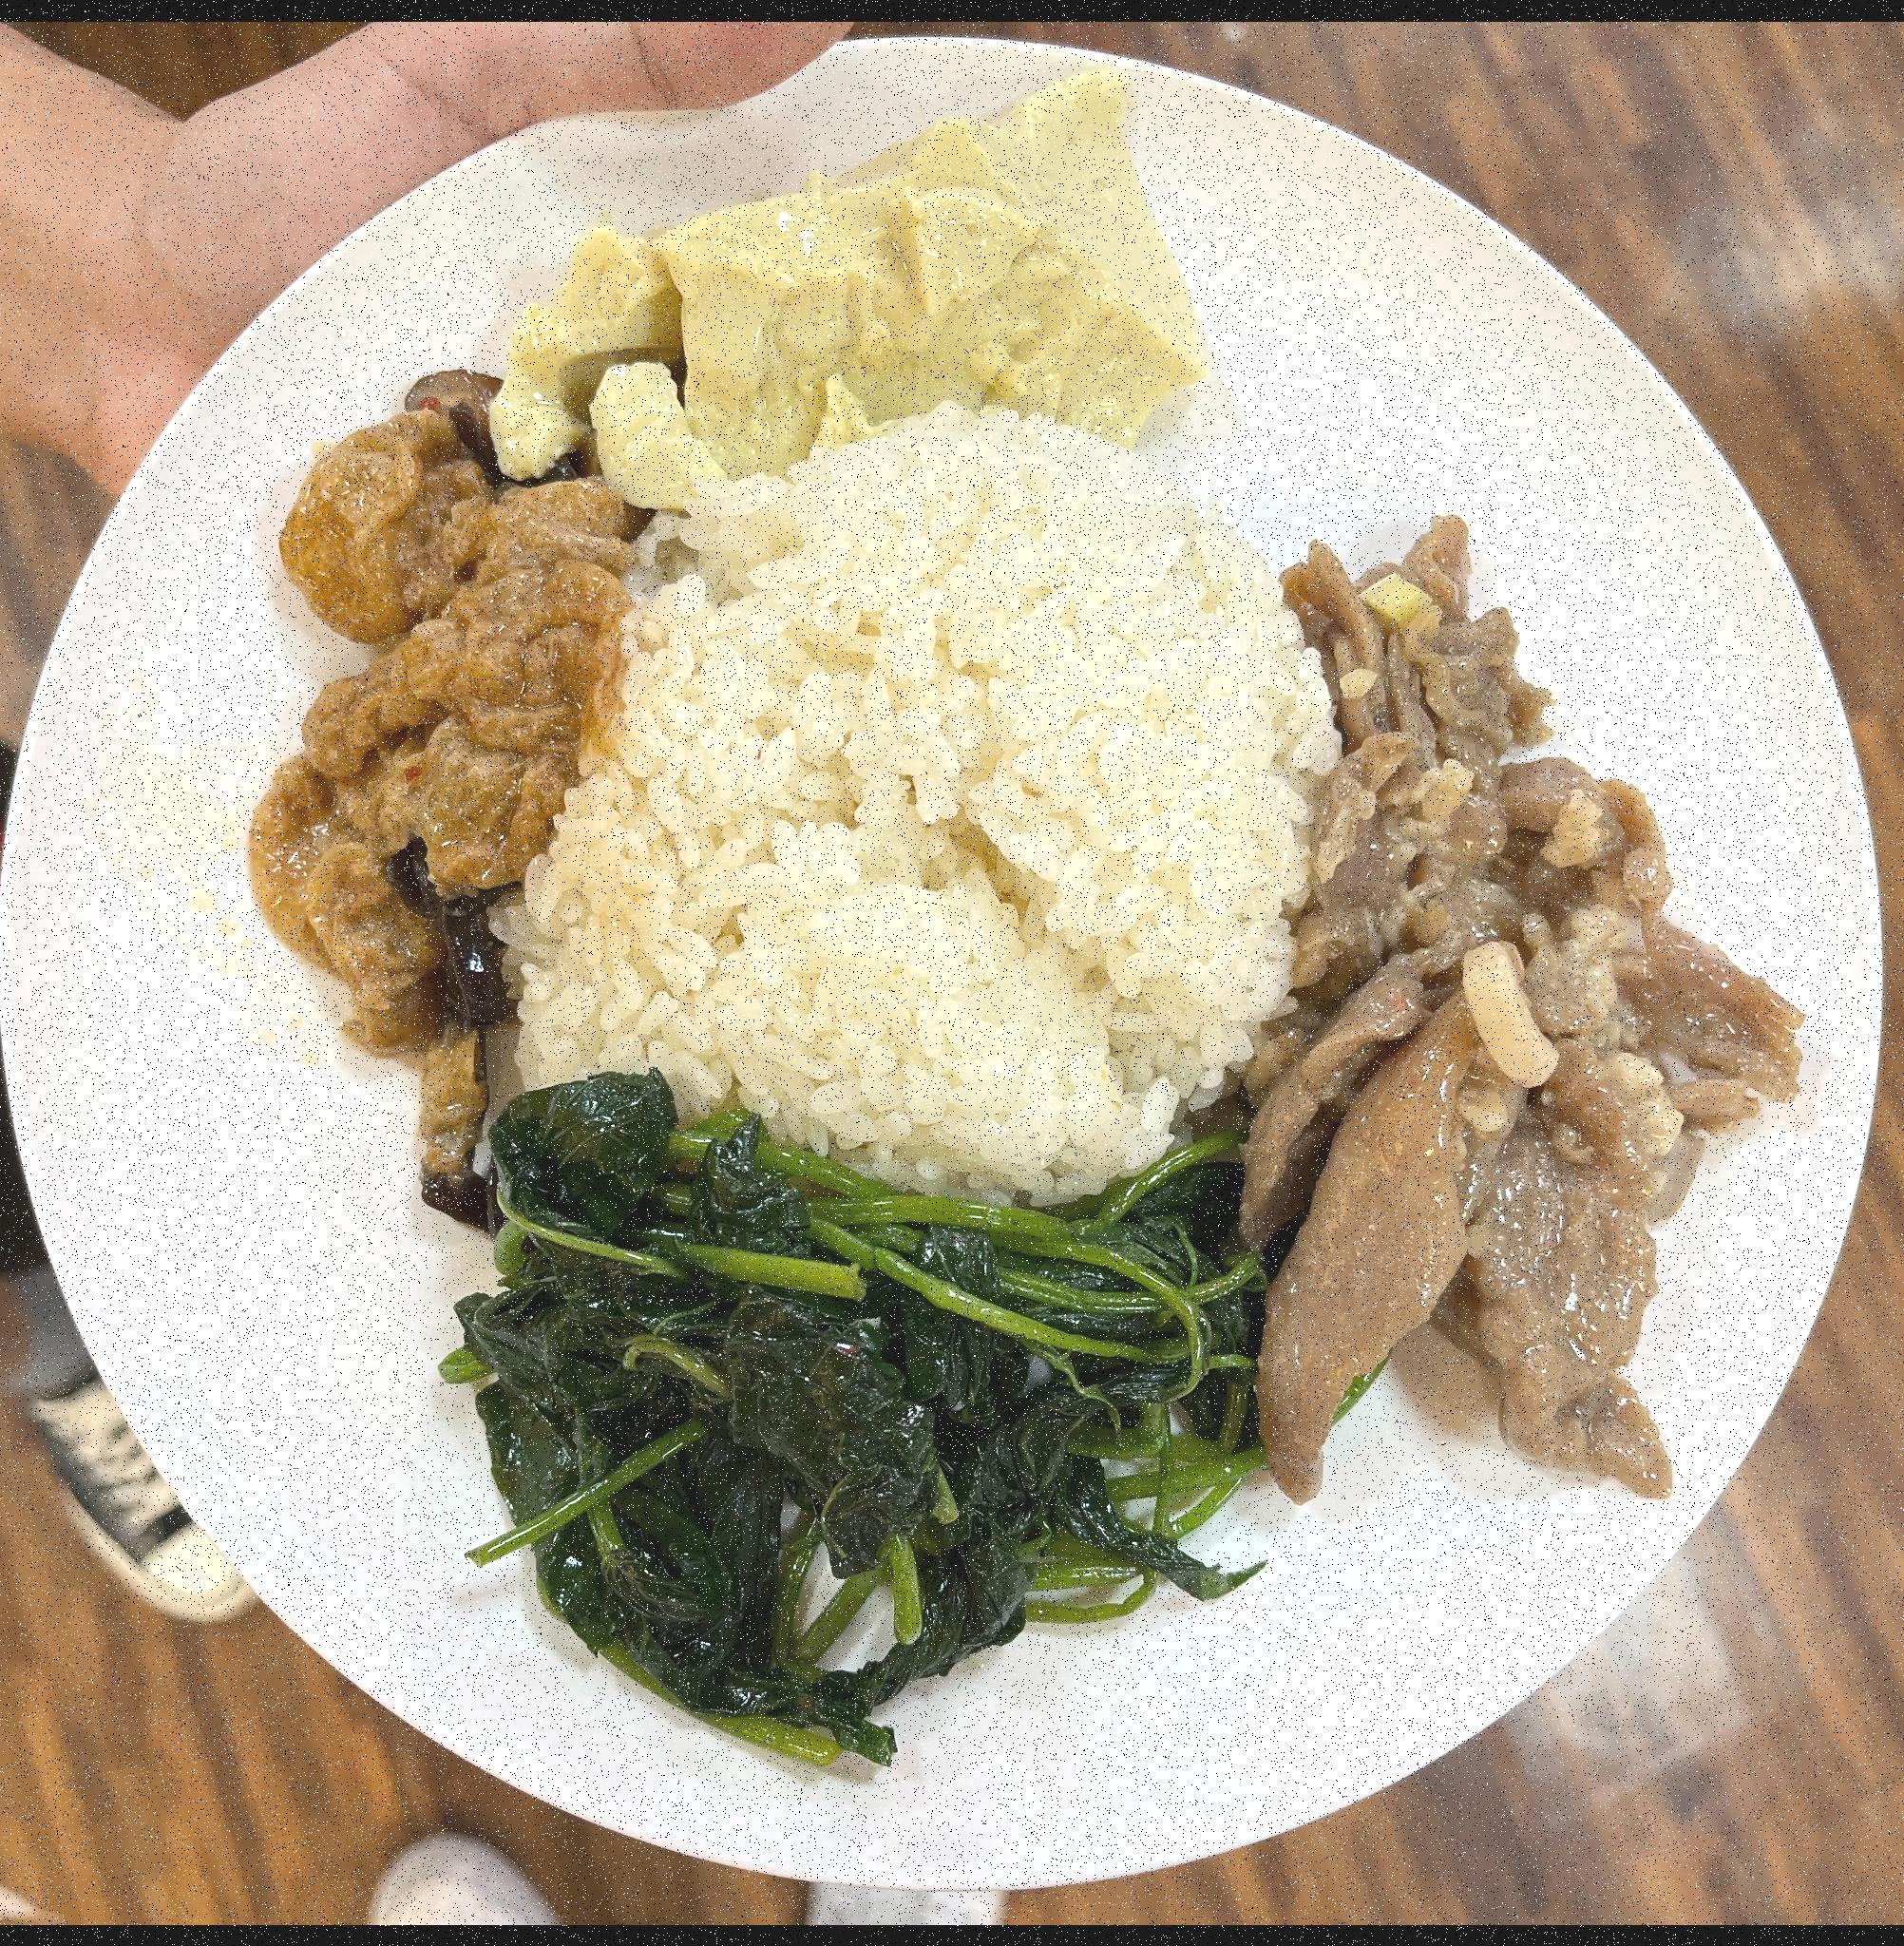plate: (17, 21, 1876, 1868)
sauteed pork: (1252, 460, 1780, 1533)
side dish: (415, 1106, 1262, 1735), (485, 68, 1217, 474), (171, 396, 598, 1048)
white rice: (504, 412, 1337, 1207)
